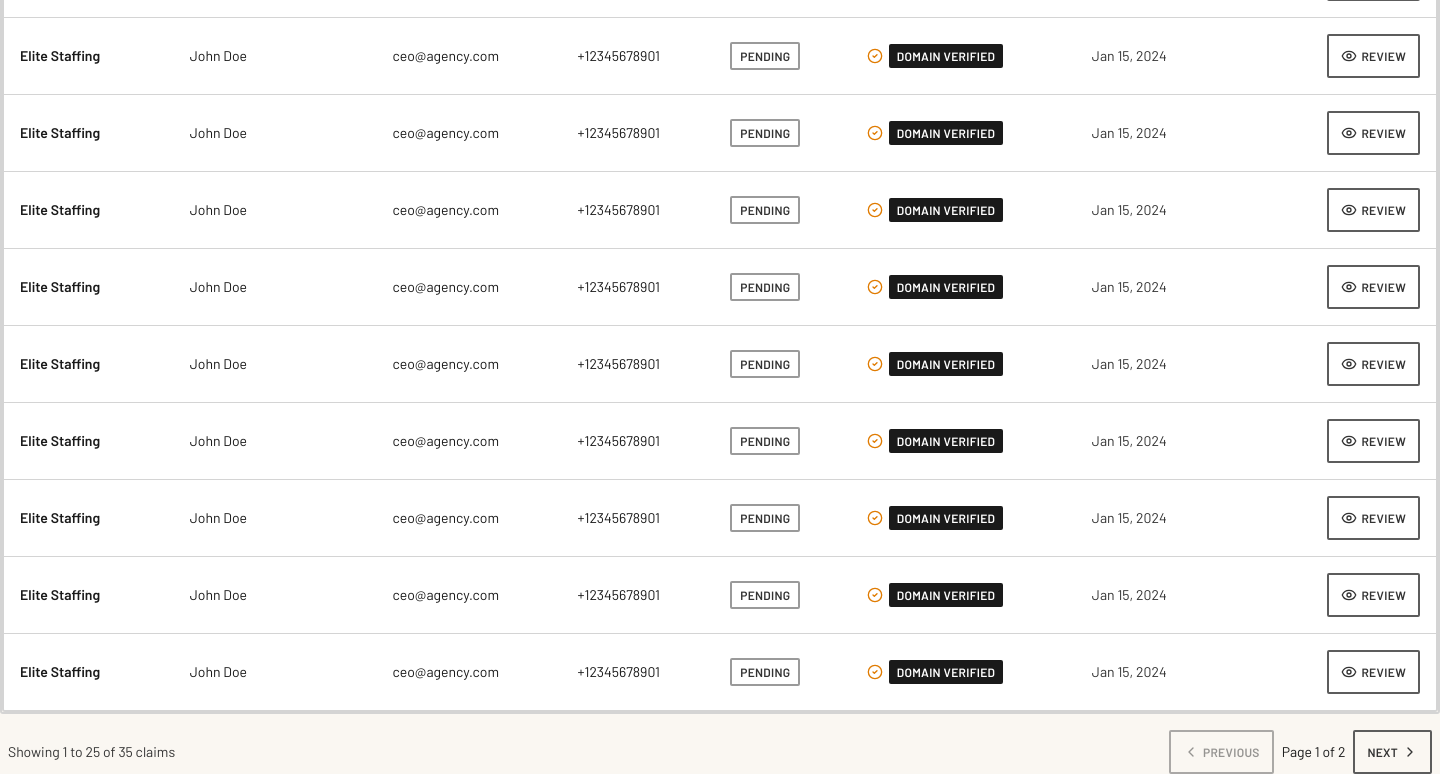
Scenario: ClaimsTable › Pagination › should disable Next button on last page
(page scrolled)
Check: the text "Page 1 of 2" is shown, box [1282,742,1345,762]
Note: Click Next to go to last page
Click the button "Next" at (1393, 752), box [1353,730,1432,773]
(page scrolled)
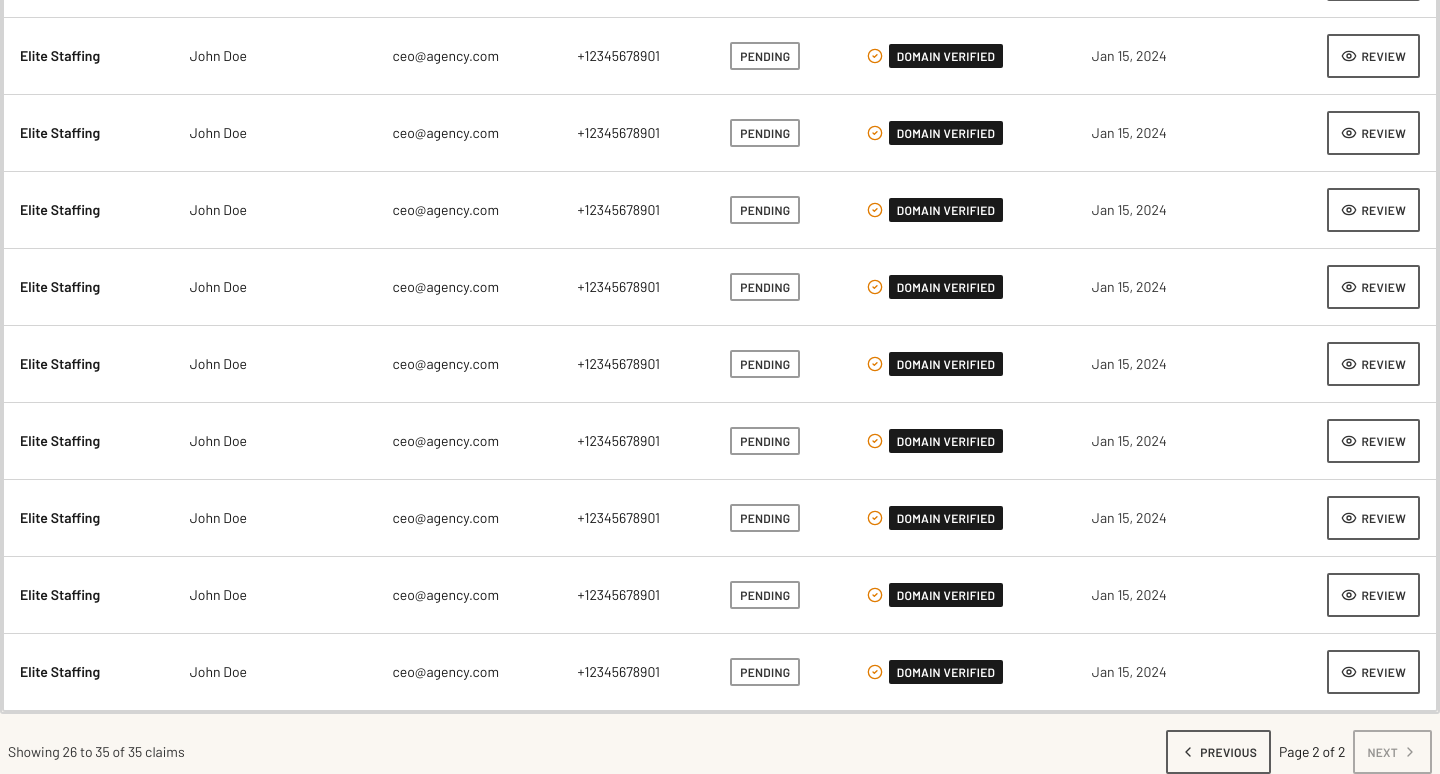
Check: the text "Page 2 of 2" is shown, box [1279,742,1345,762]
Check: the button "Next" is disabled, box [1353,730,1432,773]
